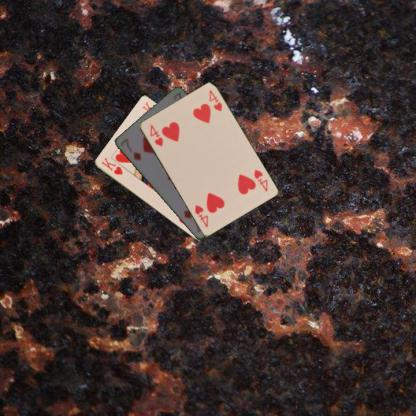4h: (250, 167, 268, 193), (147, 122, 164, 147)
7d: (118, 136, 142, 162)
Kh: (98, 155, 124, 176)
